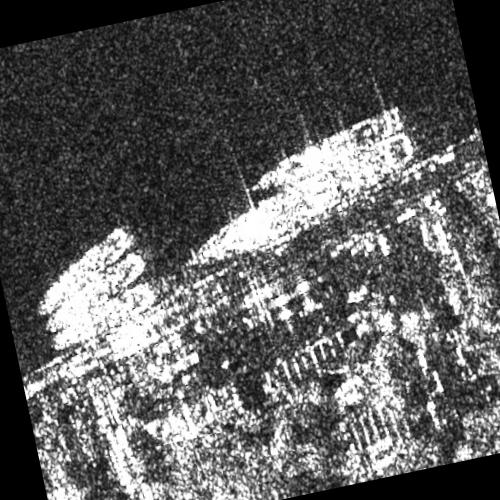ship: (182, 129, 416, 267), (245, 103, 405, 193), (35, 221, 137, 319), (45, 245, 149, 333), (51, 278, 160, 351)
